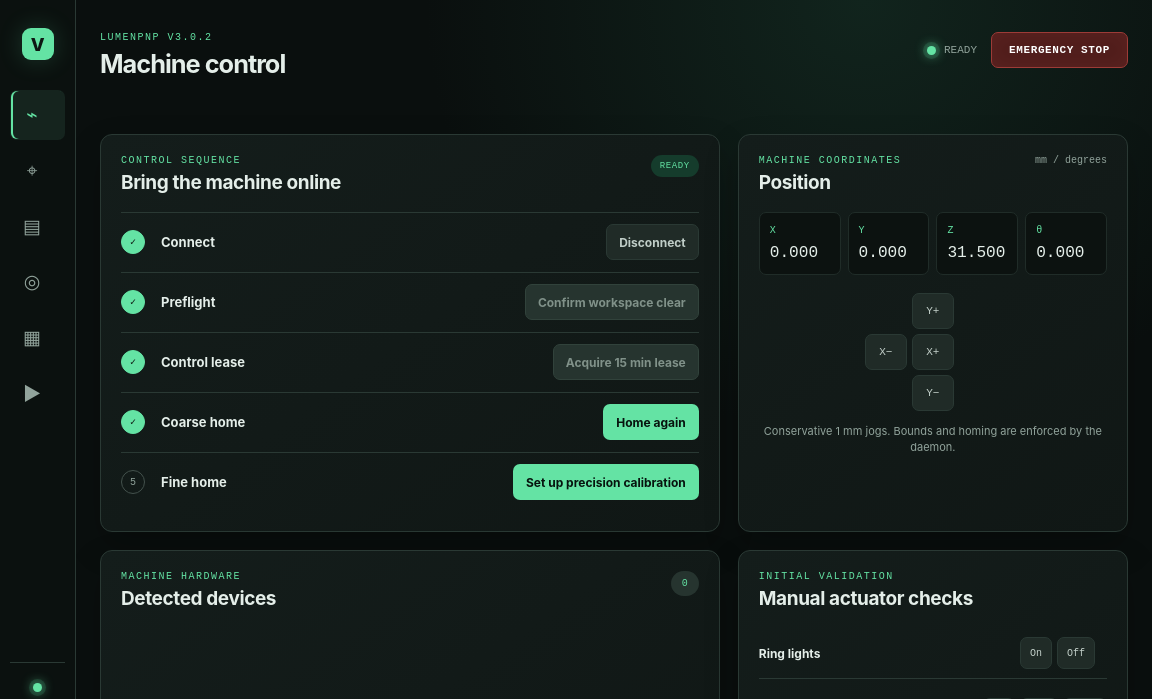
Test: machine bootstrap journey › keeps invalid parent reuse out of the bootstrap path
What coordinates should you click on to do the following:
click the button "Set up precision calibration"
I would click on:
 (606, 482)
Its box is [513,464,699,500].
(page scrolled)
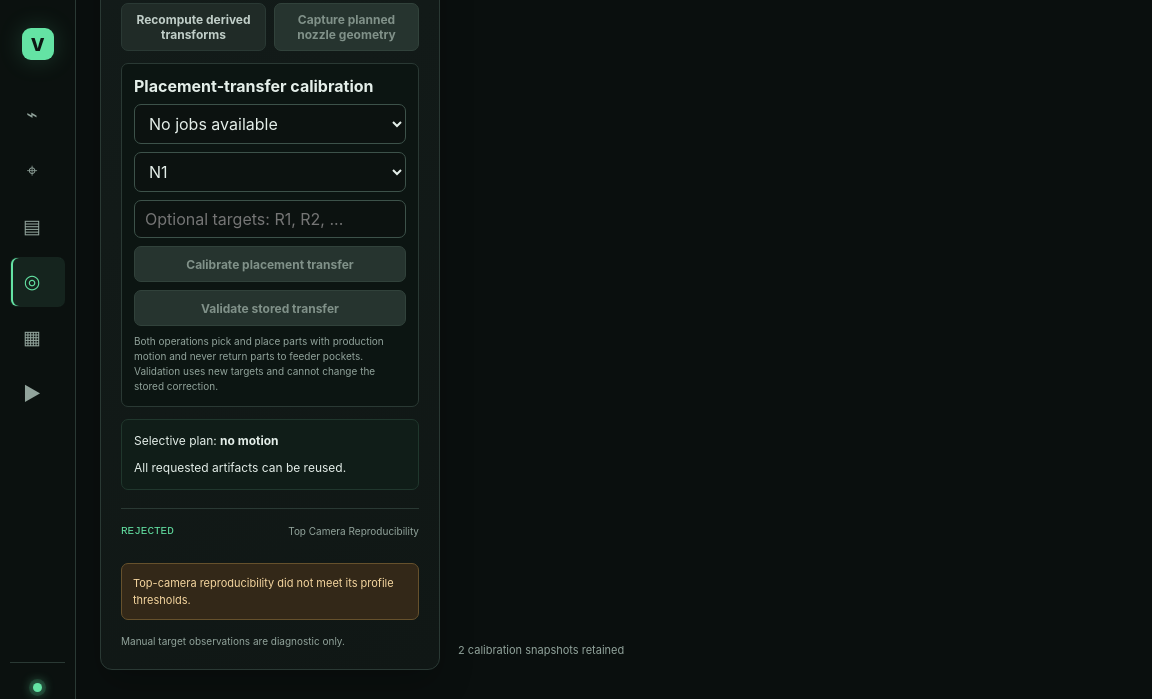
Check: the text "Top-camera reproducibility did not meet its profile thresholds." is shown, box [121,563,419,620]
